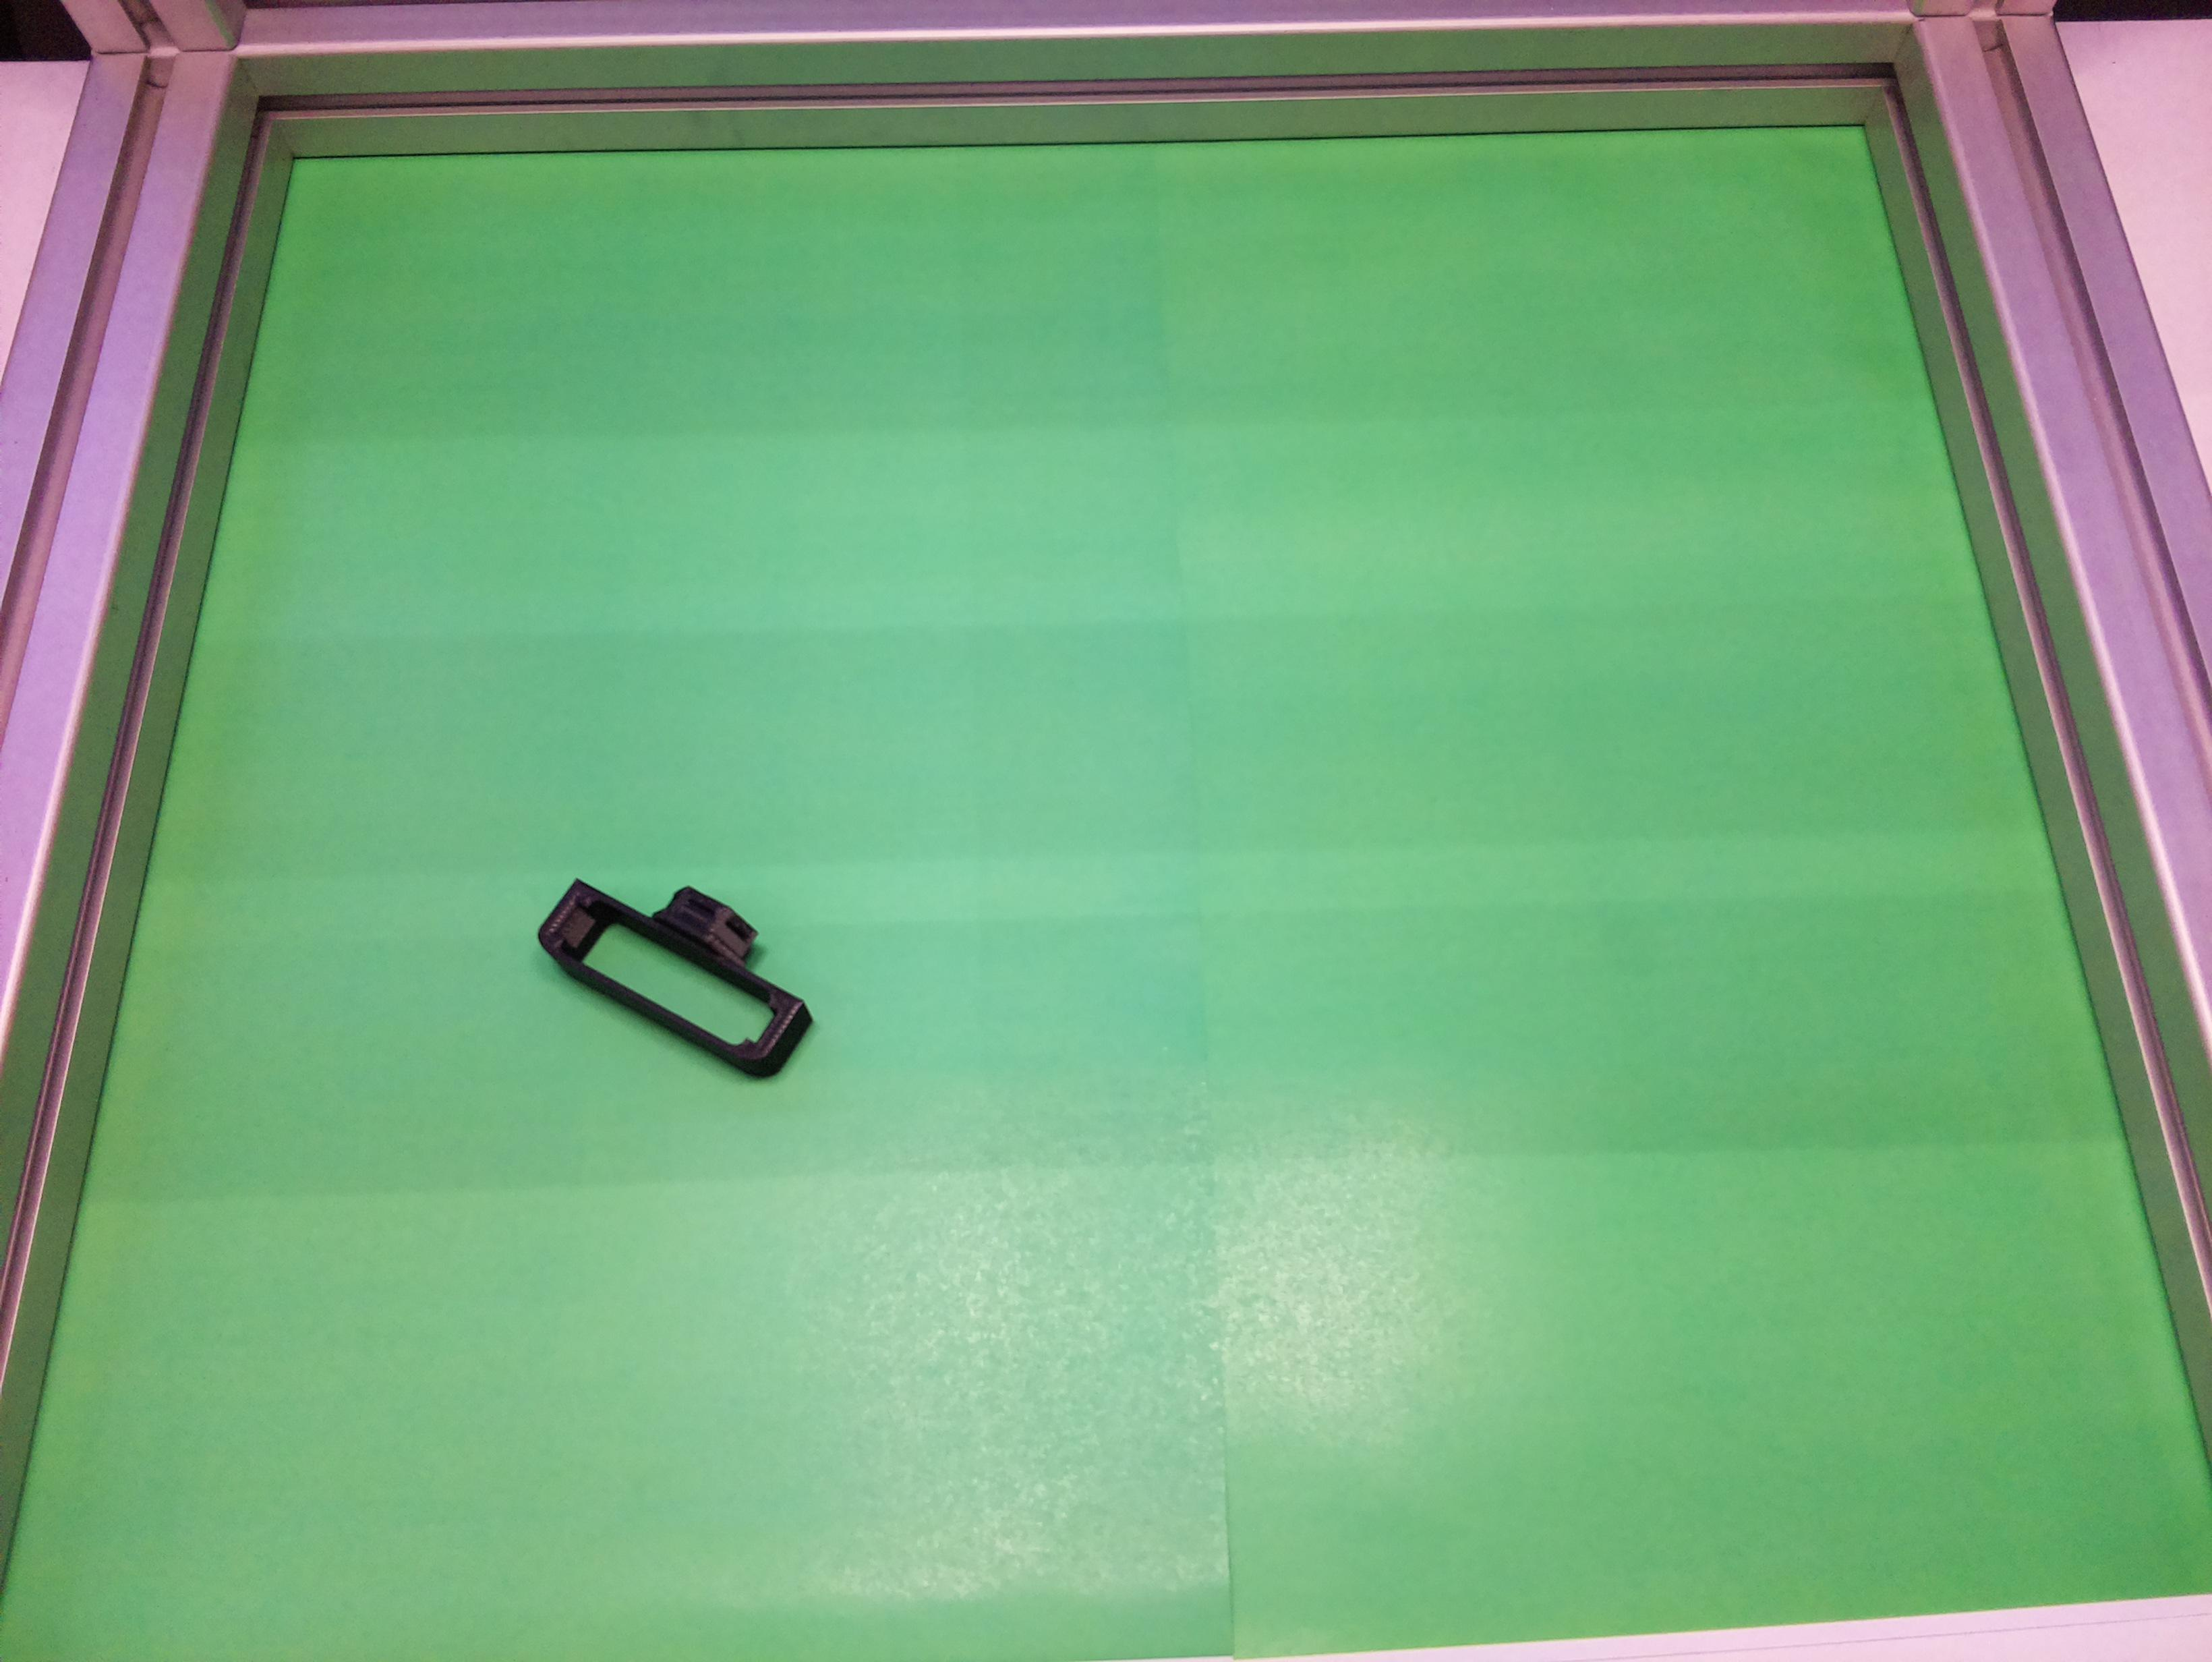cutter_holder: (526, 834, 842, 1091)
